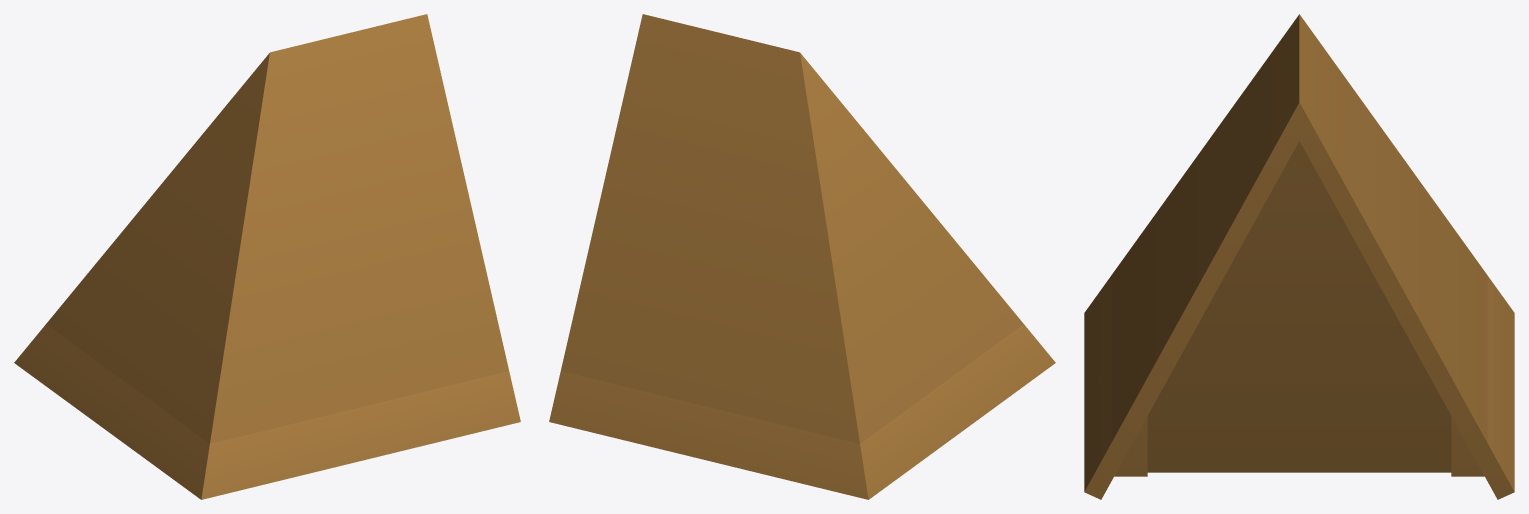
Rendered from town_roof-high-gable-end.glb.
The picture shows the model from 3 angles, left to right: view 1: azimuth 30°, elevation 25°; view 2: azimuth 150°, elevation 25°; view 3: azimuth 270°, elevation 25°; orthographic projection. The views are drawn at different scales.
Visible parts, largest first — view 1: roof-high-gable-end; view 2: roof-high-gable-end; view 3: roof-high-gable-end.
Part boxes in pixels (x1,y1,x2,y2): roof-high-gable-end: (14,14,520,499); roof-high-gable-end: (549,14,1055,499); roof-high-gable-end: (1084,14,1514,499).
Size of the model in its own units: 1.12 by 1.16 by 1.13.
Materials: 1 (1 with a texture image).
